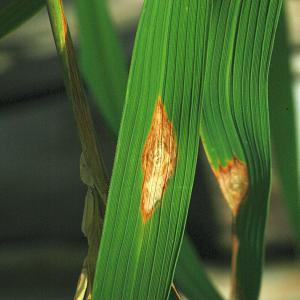Rice_Blast: (123, 88, 182, 234), (204, 155, 268, 224)
